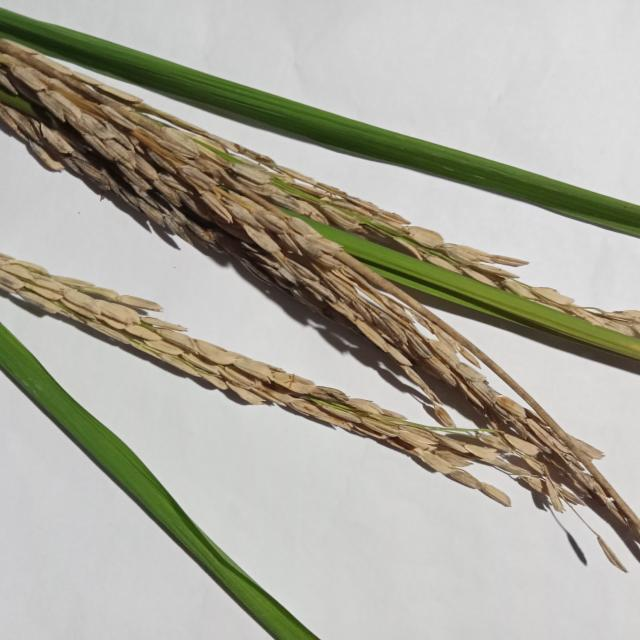Neck_Blast: (0, 45, 640, 563), (0, 260, 542, 506)
